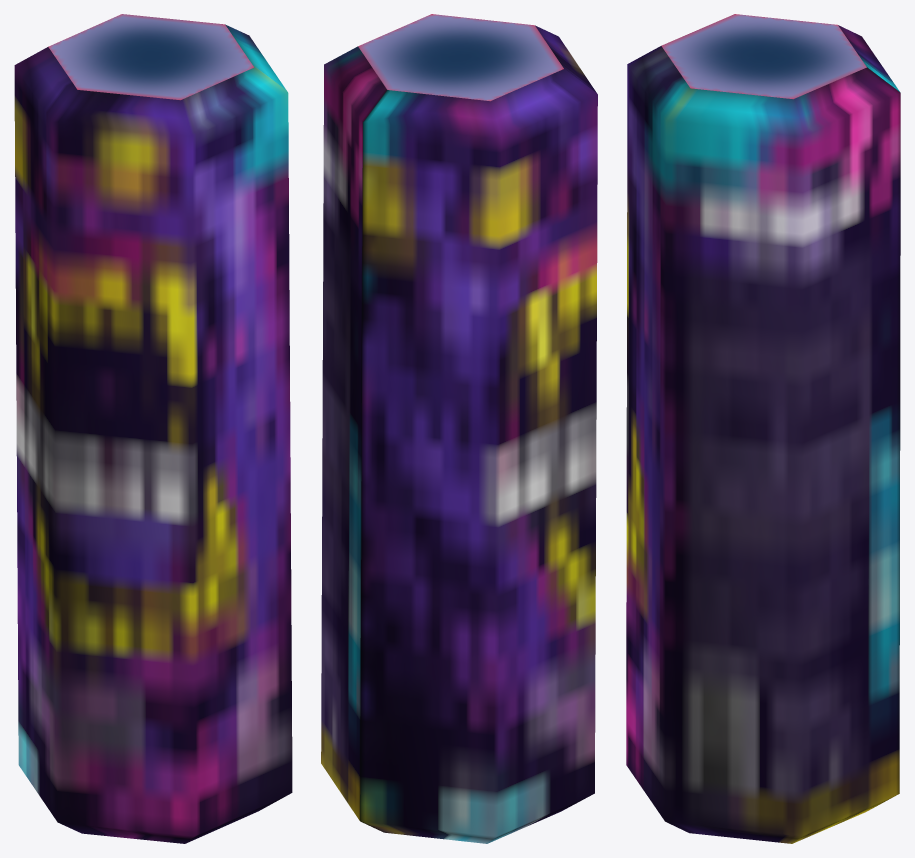
File: can.fbx
3 views of the same model, side by side, from view 1: azimuth 30°, elevation 25°; view 2: azimuth 150°, elevation 25°; view 3: azimuth 270°, elevation 25° (orthographic).
Parts seen in each view (by area): view 1: can; view 2: can; view 3: can.
Part boxes in pixels (bbox=[...]): can: bbox=[14, 14, 292, 843]; can: bbox=[321, 14, 597, 843]; can: bbox=[626, 14, 900, 843].
Size of the model in its own units: 5.79 by 17.29 by 5.78.
